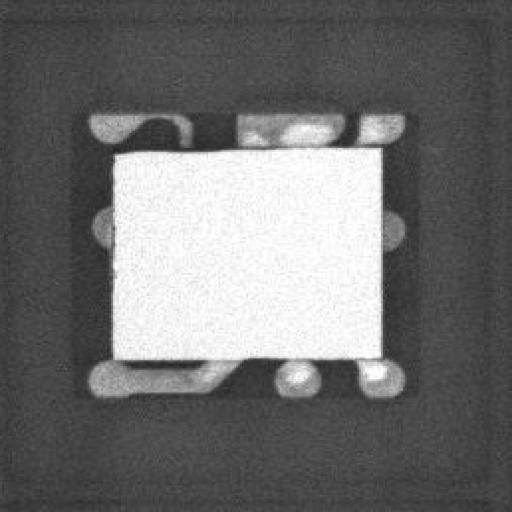DIE_BROKEN: (109, 142, 199, 158)
